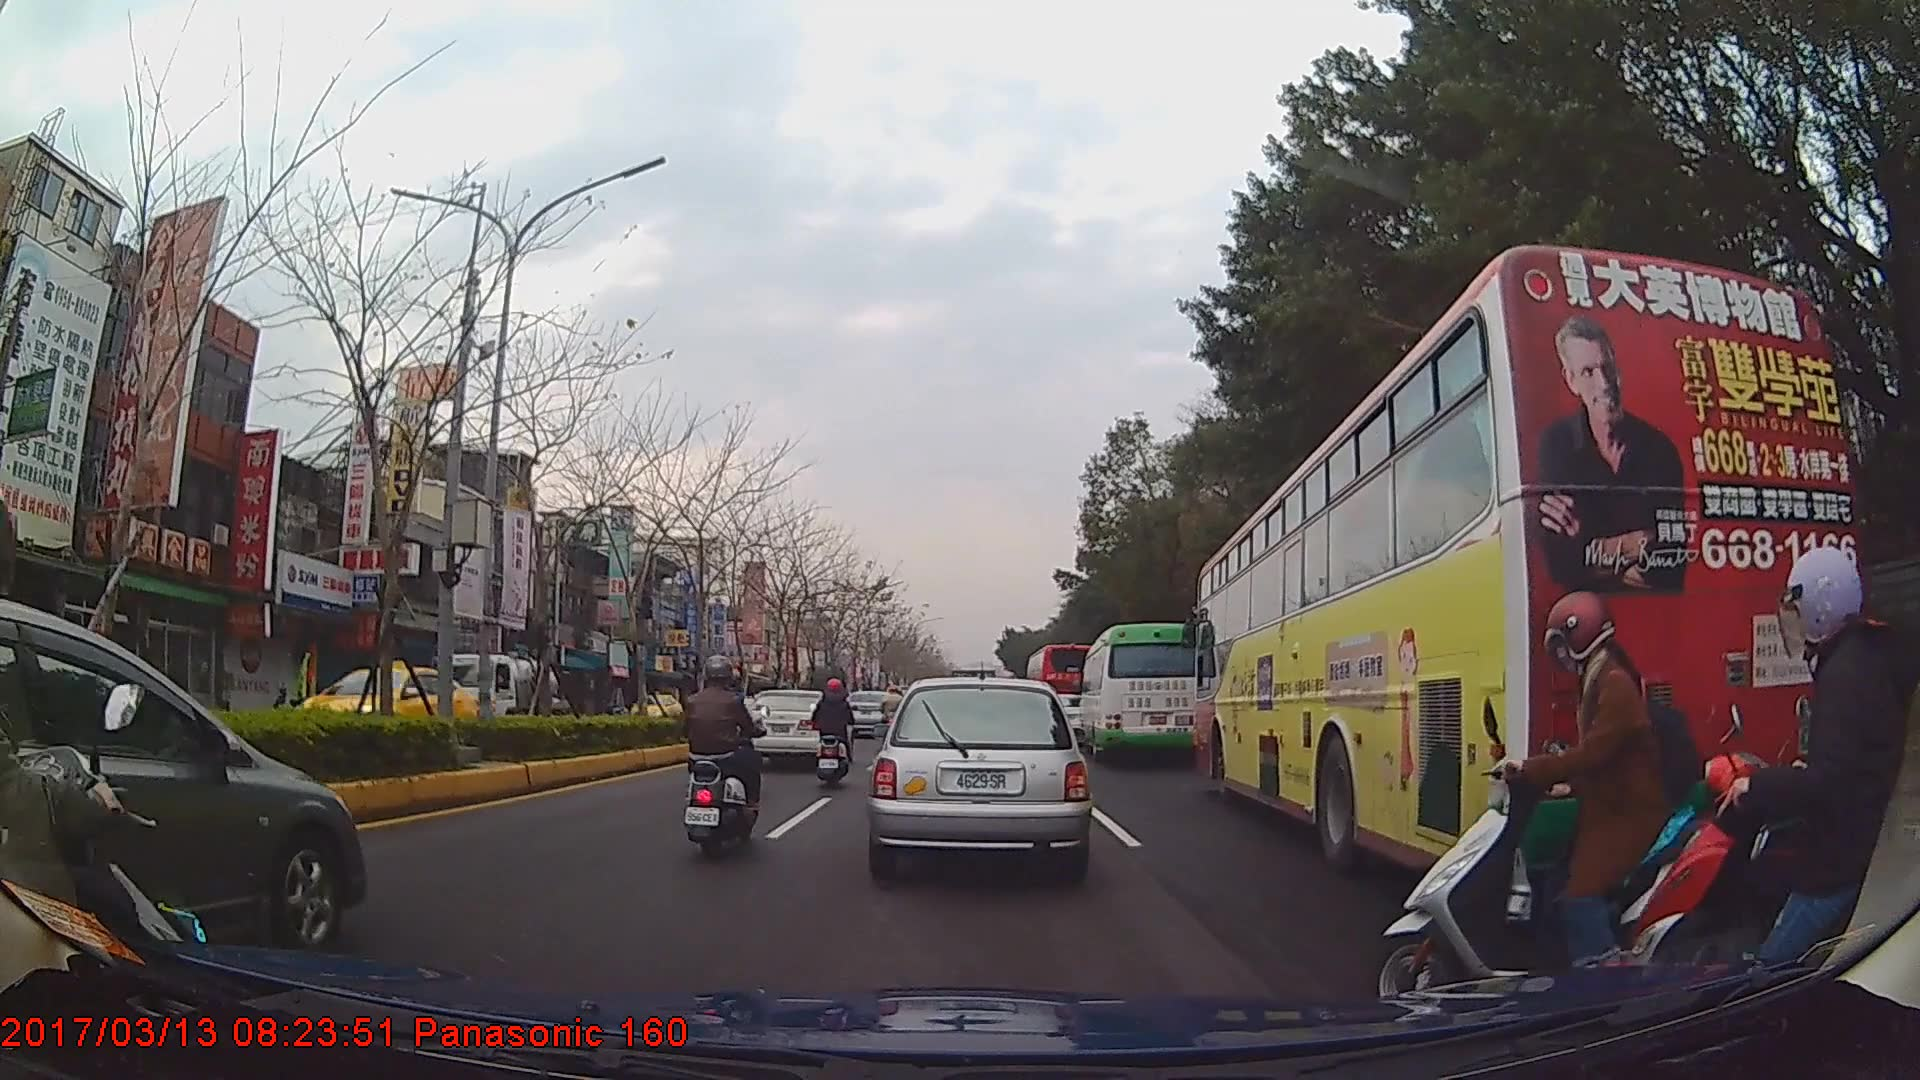rider: (1360, 583, 1777, 1029), (1630, 537, 1920, 1045), (1, 460, 191, 1033), (681, 654, 767, 866), (811, 678, 857, 790), (878, 684, 905, 742)
vehicle: (1195, 243, 1865, 883), (0, 593, 361, 964), (870, 670, 1088, 879), (294, 657, 482, 760), (1078, 620, 1210, 764), (411, 650, 570, 750), (743, 688, 848, 772), (1021, 639, 1100, 732)
